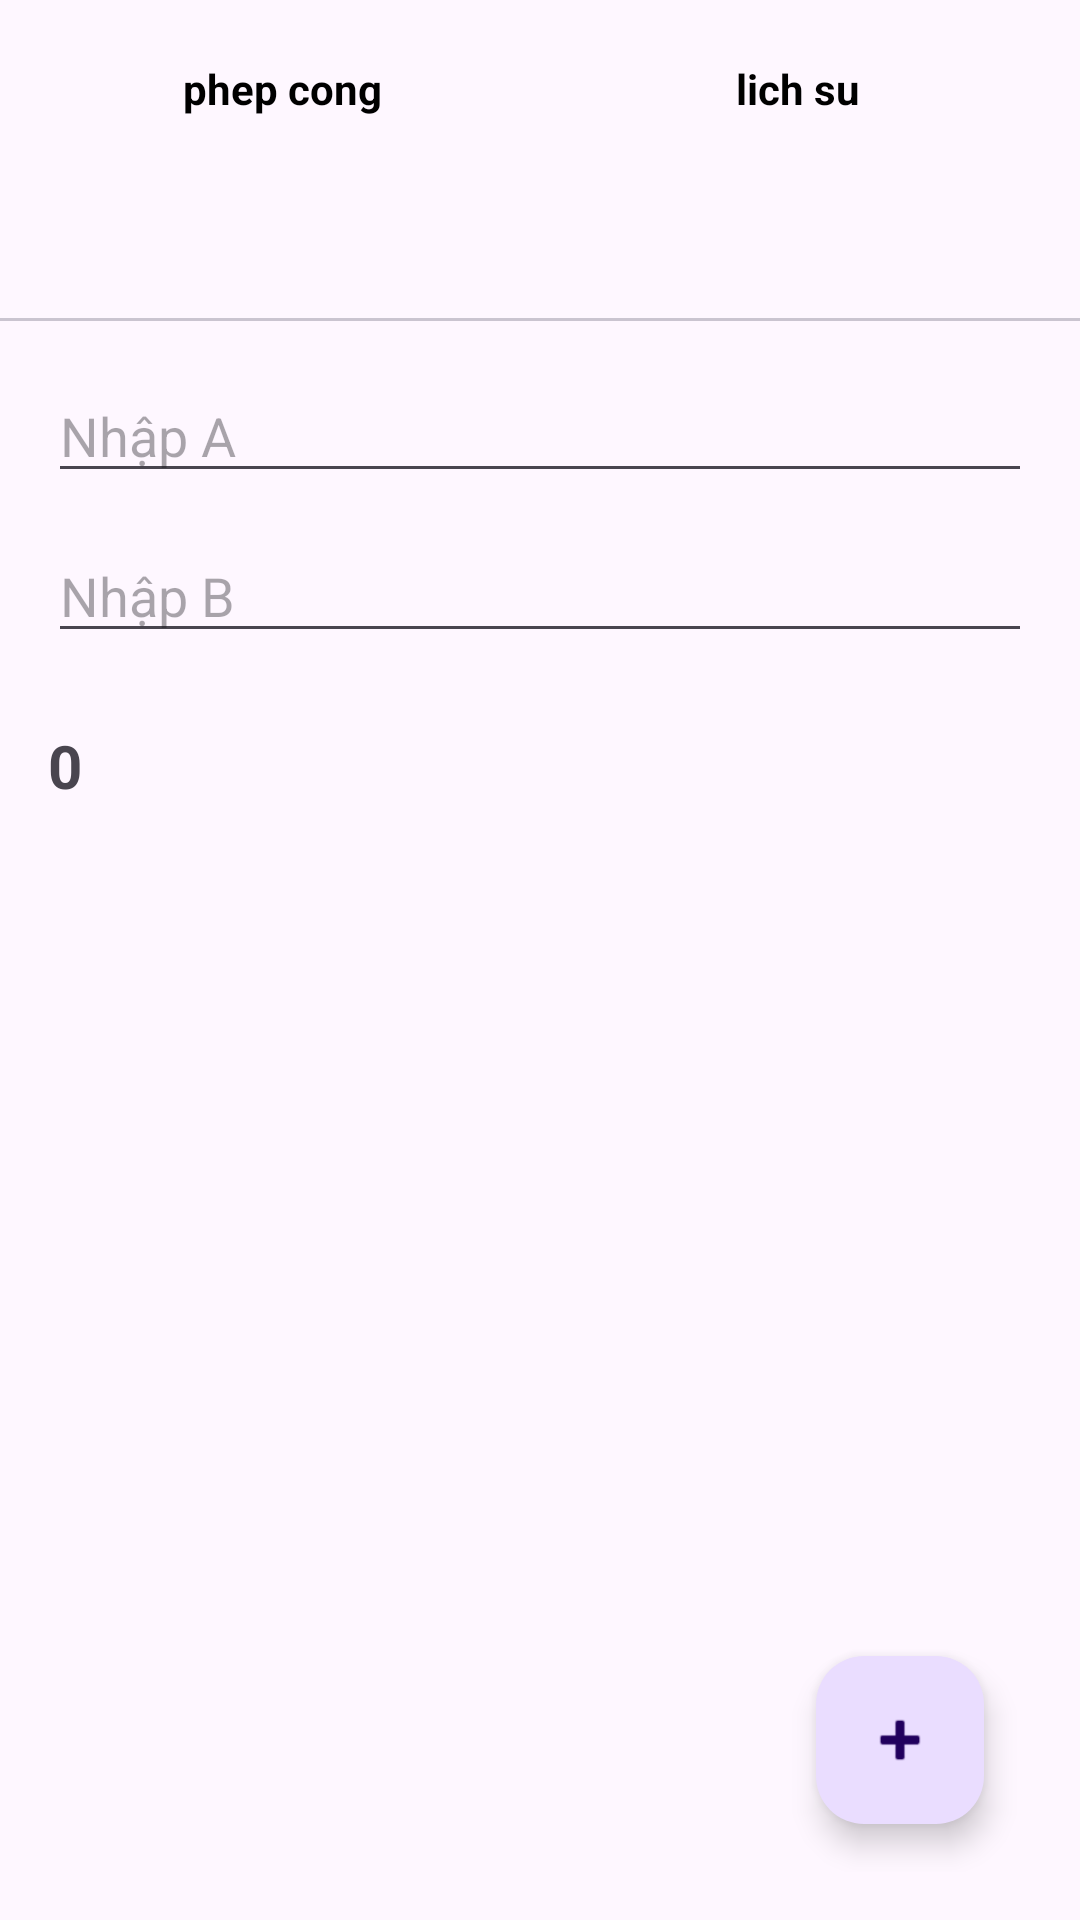

Icons on this 1080 x 1920 Android screen, each with the point to tap as (x=x, y=y):
Thêm: (x=900, y=1740)
